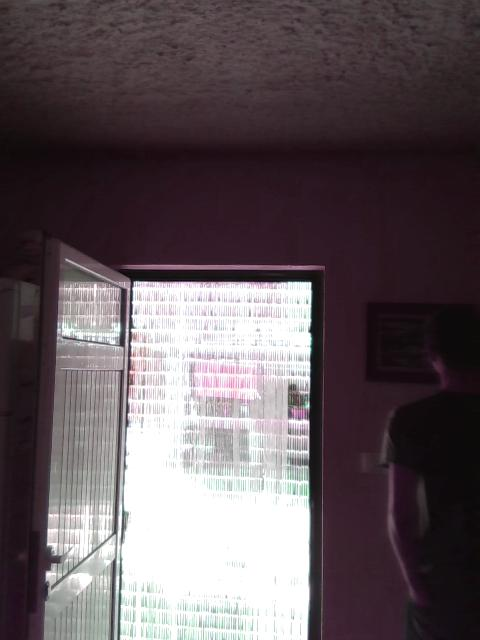open_door: (106, 260, 323, 639)
